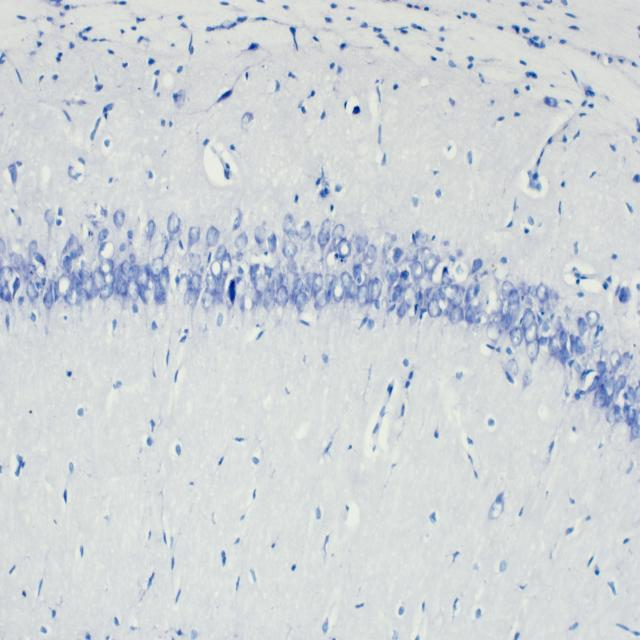neuron: (263, 278, 276, 308), (325, 240, 338, 270), (200, 287, 217, 309), (126, 276, 140, 302), (508, 289, 520, 319), (56, 275, 72, 297), (382, 232, 397, 255), (403, 286, 418, 309), (151, 256, 164, 282), (593, 383, 606, 409), (45, 278, 59, 302), (357, 283, 370, 308), (167, 212, 181, 235), (282, 240, 298, 260), (486, 322, 502, 342), (154, 281, 166, 307), (276, 284, 289, 308), (370, 277, 383, 301), (363, 244, 377, 266), (522, 308, 536, 330), (99, 241, 115, 260), (26, 280, 39, 303), (75, 288, 89, 309), (524, 323, 538, 344), (0, 282, 13, 304), (69, 233, 80, 259), (206, 225, 219, 247), (333, 277, 344, 303), (404, 242, 419, 261), (465, 283, 480, 302), (451, 286, 465, 306), (535, 283, 549, 303), (92, 269, 104, 292), (325, 273, 336, 298), (505, 358, 518, 379), (444, 283, 459, 301), (338, 239, 352, 258), (424, 253, 438, 272), (586, 310, 600, 329), (138, 265, 150, 287), (205, 274, 217, 296), (221, 252, 232, 276), (283, 212, 295, 234), (299, 221, 311, 243), (345, 279, 357, 301), (510, 326, 522, 348), (527, 339, 539, 361), (548, 334, 560, 356), (160, 266, 170, 292), (356, 232, 369, 252), (98, 259, 114, 275), (474, 310, 489, 327), (235, 275, 246, 298), (9, 252, 23, 270), (64, 287, 78, 305), (188, 253, 202, 271), (392, 245, 404, 266), (449, 306, 463, 324), (574, 335, 586, 356), (610, 349, 622, 370), (210, 260, 223, 279), (235, 231, 248, 250), (314, 288, 327, 307), (428, 298, 441, 317), (44, 208, 56, 228), (99, 284, 114, 300), (113, 208, 125, 228), (140, 284, 152, 304), (188, 224, 200, 244), (254, 225, 266, 245), (300, 282, 312, 302), (340, 270, 352, 290), (411, 260, 423, 280), (502, 280, 514, 300), (615, 373, 627, 393), (414, 229, 428, 246), (232, 210, 243, 231), (352, 253, 363, 274), (522, 368, 533, 389), (70, 272, 82, 291), (558, 347, 570, 366), (624, 408, 636, 427), (317, 230, 330, 247), (28, 240, 38, 262), (188, 288, 198, 310), (606, 374, 616, 396), (1, 265, 13, 283), (191, 273, 203, 291), (242, 294, 254, 312), (255, 275, 267, 293), (312, 274, 324, 292), (386, 266, 398, 284), (296, 292, 306, 313), (43, 291, 54, 310), (84, 275, 95, 294), (577, 317, 588, 336), (116, 276, 126, 296), (392, 285, 402, 305), (501, 312, 512, 330), (331, 224, 344, 239), (121, 260, 133, 276), (471, 258, 483, 274), (147, 219, 156, 240), (320, 218, 331, 235), (214, 245, 227, 259), (63, 254, 72, 274), (432, 288, 444, 303), (559, 330, 568, 350), (630, 421, 639, 441), (294, 277, 303, 296), (268, 234, 277, 253), (308, 234, 317, 253), (28, 263, 38, 280), (87, 286, 100, 299), (79, 269, 90, 284), (104, 272, 115, 287), (129, 264, 139, 280), (627, 384, 635, 404), (98, 228, 110, 241), (622, 352, 631, 369), (398, 300, 406, 319), (465, 303, 473, 322), (606, 406, 614, 425), (520, 280, 530, 295), (492, 311, 504, 323), (286, 228, 296, 242), (289, 289, 296, 308), (596, 360, 606, 373), (13, 277, 21, 293), (182, 290, 190, 306), (614, 408, 622, 423), (75, 244, 83, 258), (276, 271, 282, 289), (119, 282, 127, 295), (573, 362, 581, 375), (635, 384, 640, 404), (541, 321, 551, 331), (114, 266, 121, 280), (216, 312, 223, 326), (539, 335, 547, 347), (22, 268, 28, 282), (417, 292, 422, 308), (119, 242, 126, 252)
